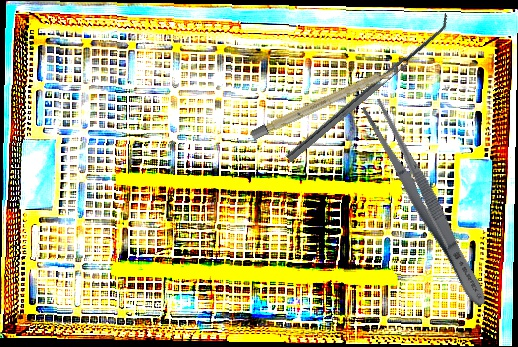Dressing Forceps: (357, 96, 495, 312)
Scalpel Handle: (249, 63, 400, 141)
Spatula Surgical: (280, 11, 455, 163)
